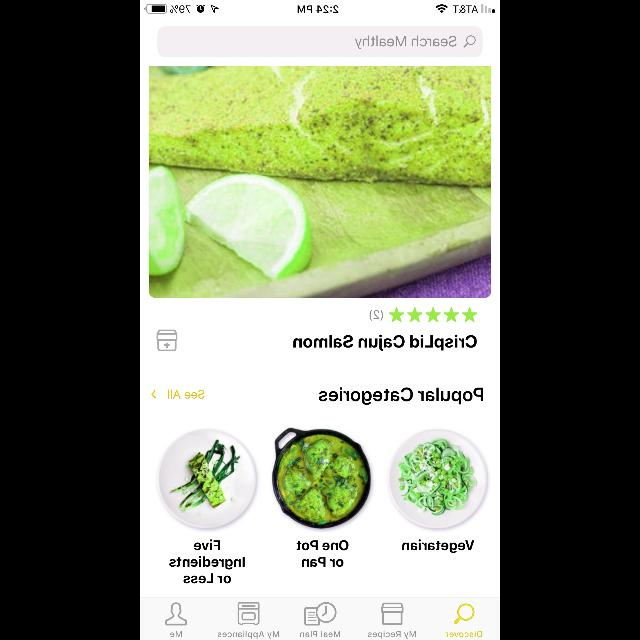icon: (389, 308, 477, 322), (304, 602, 336, 626), (165, 602, 187, 626), (454, 604, 474, 624), (463, 36, 475, 48), (151, 390, 155, 398)
image: (149, 66, 491, 298), (387, 429, 488, 529), (272, 428, 371, 530), (157, 430, 257, 530), (238, 602, 260, 626), (381, 603, 403, 625), (156, 329, 178, 351)
input: (158, 27, 482, 58)
text: (170, 539, 244, 583), (319, 387, 483, 405), (294, 335, 476, 351), (354, 35, 456, 49), (297, 540, 348, 566), (402, 540, 474, 552), (218, 631, 278, 639), (368, 630, 416, 638), (168, 389, 205, 398), (445, 630, 481, 638), (300, 631, 340, 637), (370, 310, 382, 320), (170, 631, 182, 637)
uppertaskbar: (140, 0, 500, 14)
